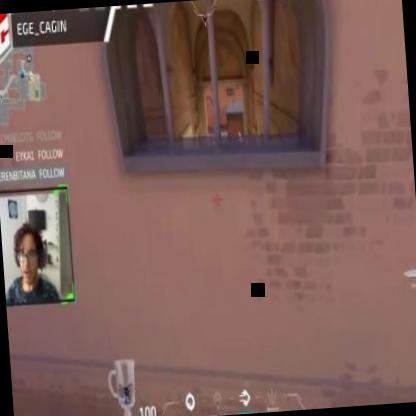enemy: (236, 130, 247, 166)
enemy_head: (238, 132, 242, 139)
